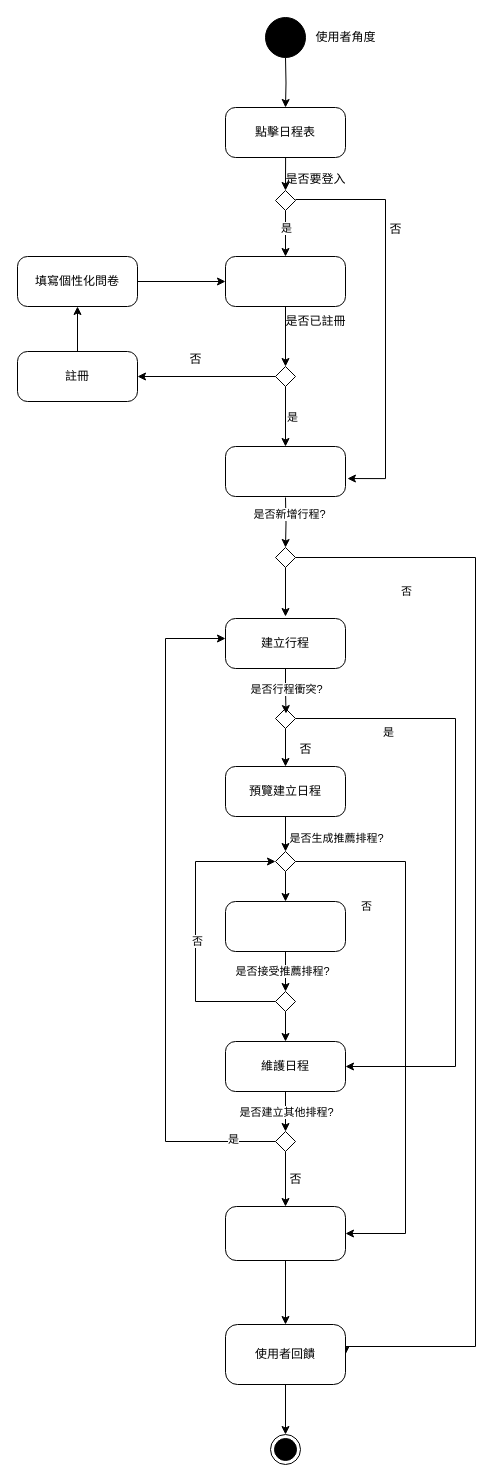
The diagram is 501 pixels wide and 1482 high, and some of its shapes have lost their labels. The shapes that lost their labels are listed below. From the top down, each one's box as (x1, y1, x2, y2) in pixels, then its label:
(224, 256, 346, 306): 登入
(224, 446, 346, 496): 進入單日日程表
(224, 900, 346, 952): 查看推薦排程
(224, 1206, 346, 1260): 執行動態排程
